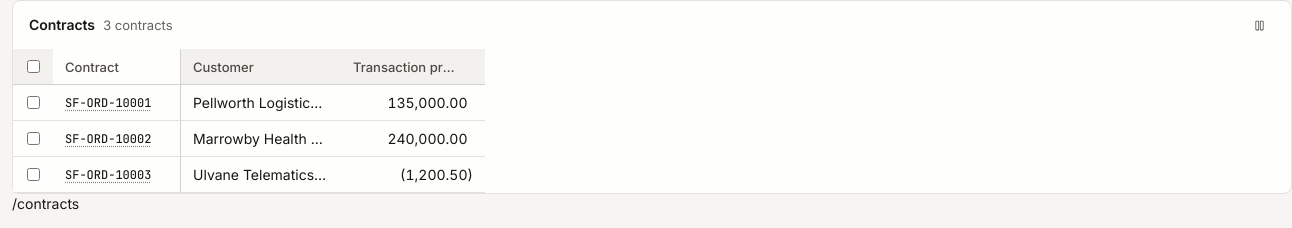
Test: REQ-UX-009 keyboard › Shift+Space selects the focused row
Press the mouse on the element "SF-ORD-10003": (117, 174) [53, 157, 181, 192]
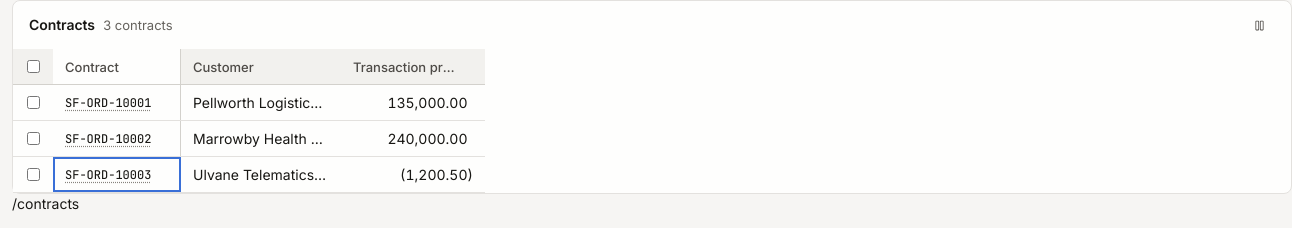
Press Space in the element "SF-ORD-10003", box [53, 157, 181, 192]
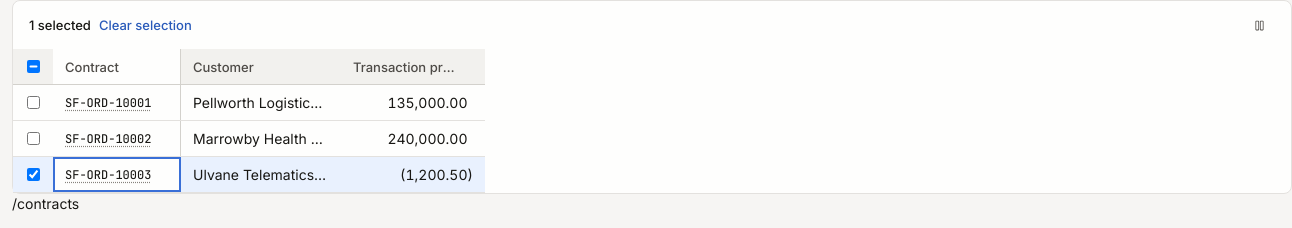
Now the element "1 selected" is shown, box [29, 16, 192, 34]
